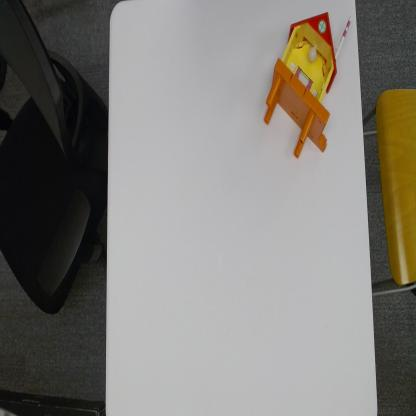House: (266, 6, 351, 162)
